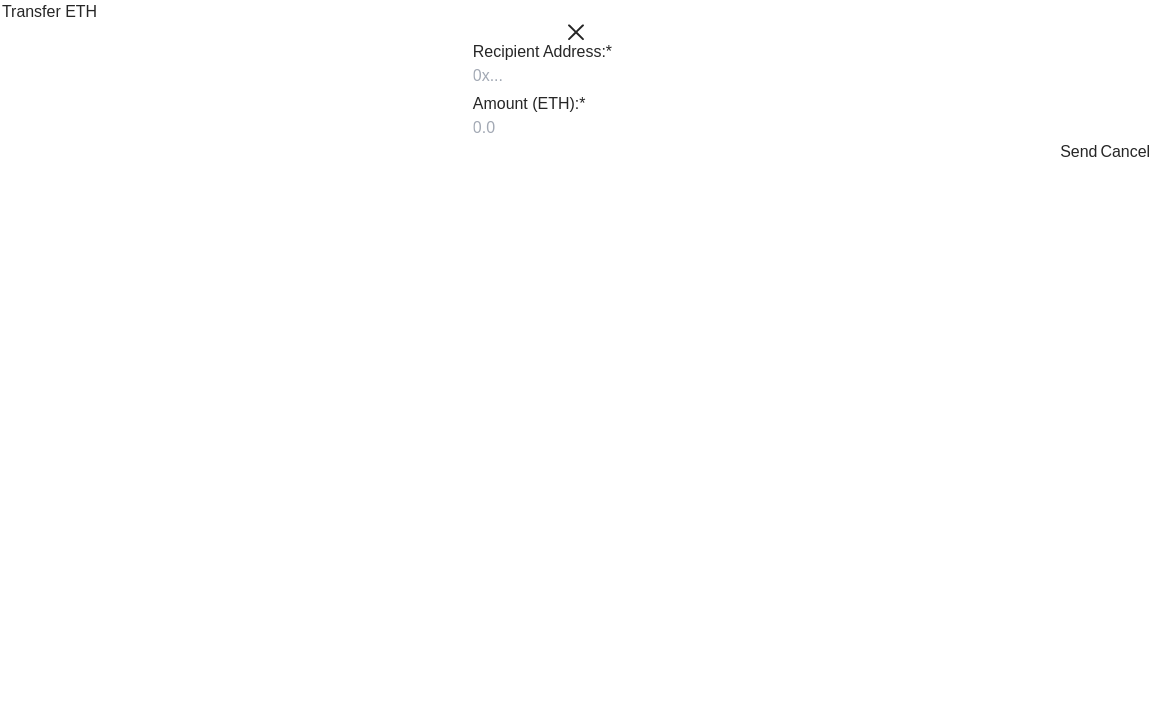
Test: TransferModal › Transaction Handling › handles failed transaction
This screenshot has width=1152, height=720.
In the field labelled "Recipient Address:*": x=576, y=76 [473, 64, 679, 88], type "0x123valid"
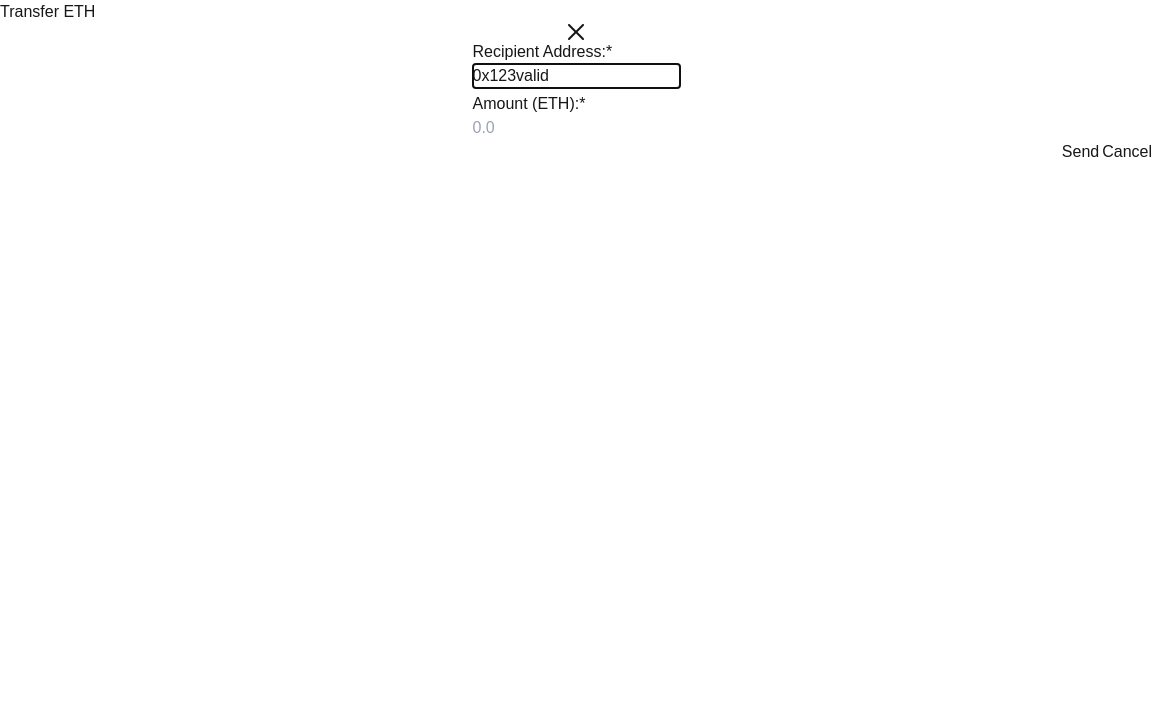
In the number field labelled "Amount (ETH):*": x=576, y=128 [472, 116, 680, 140], type "0.1"
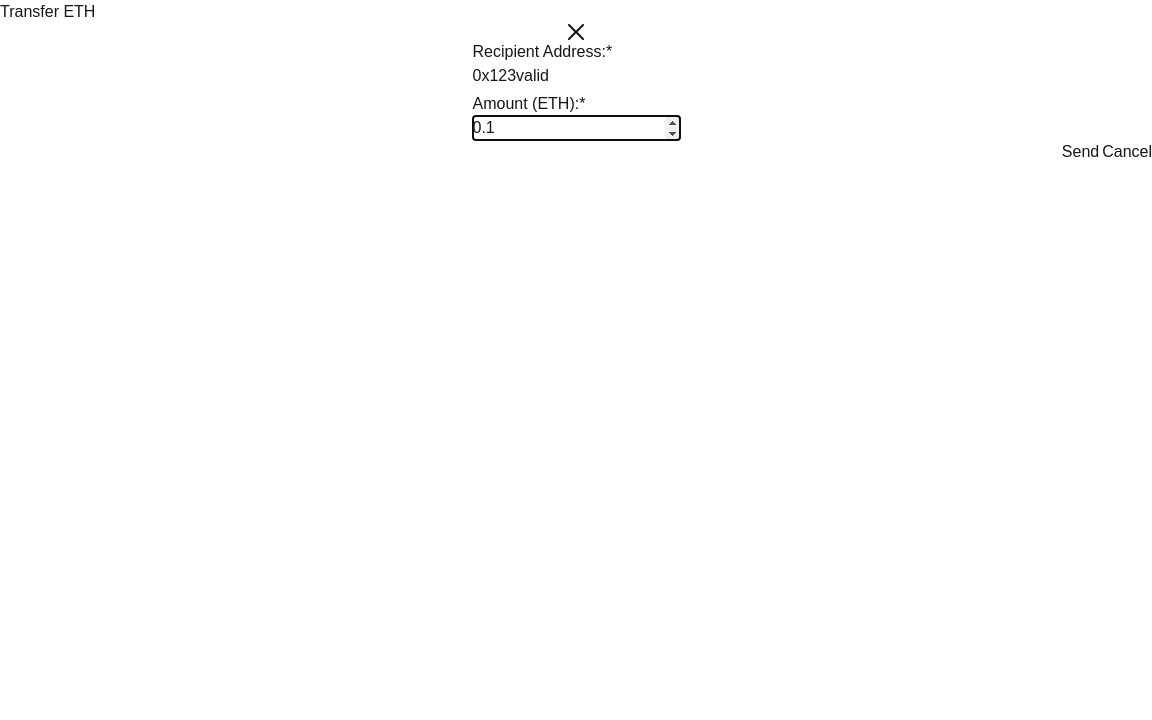
Click the button "Send": x=1080, y=152 [1062, 140, 1099, 164]
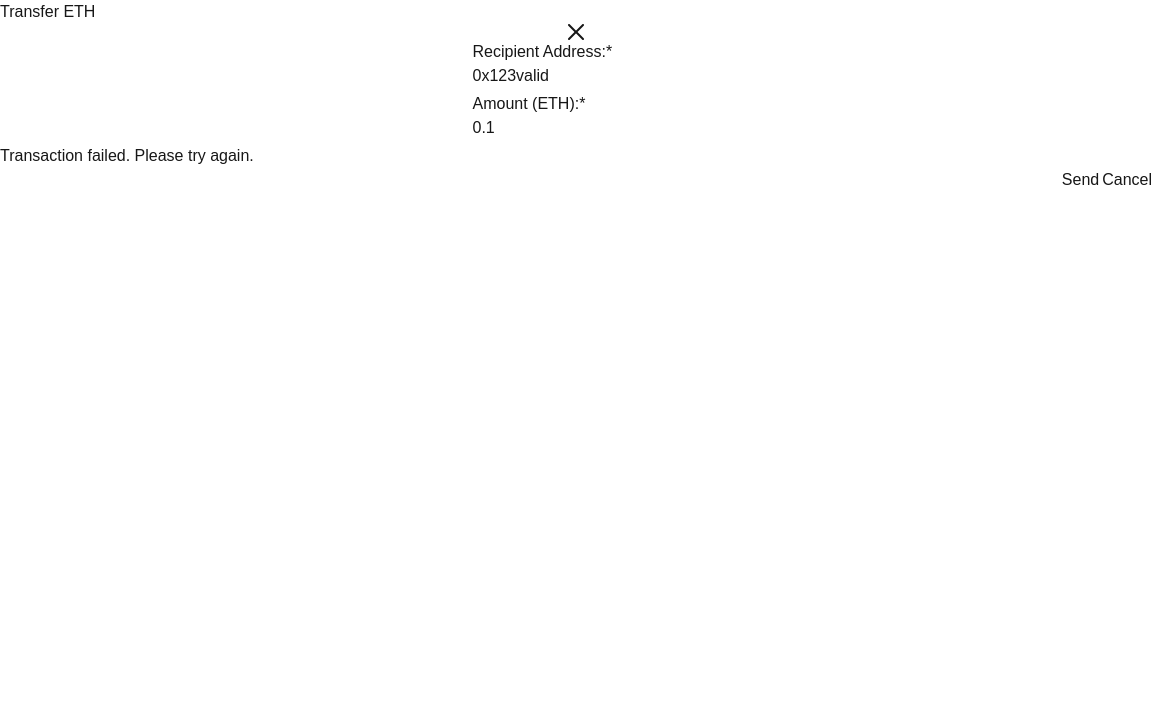
Expected: the text "Transaction failed. Please try again." is shown, [0, 147, 254, 164]
